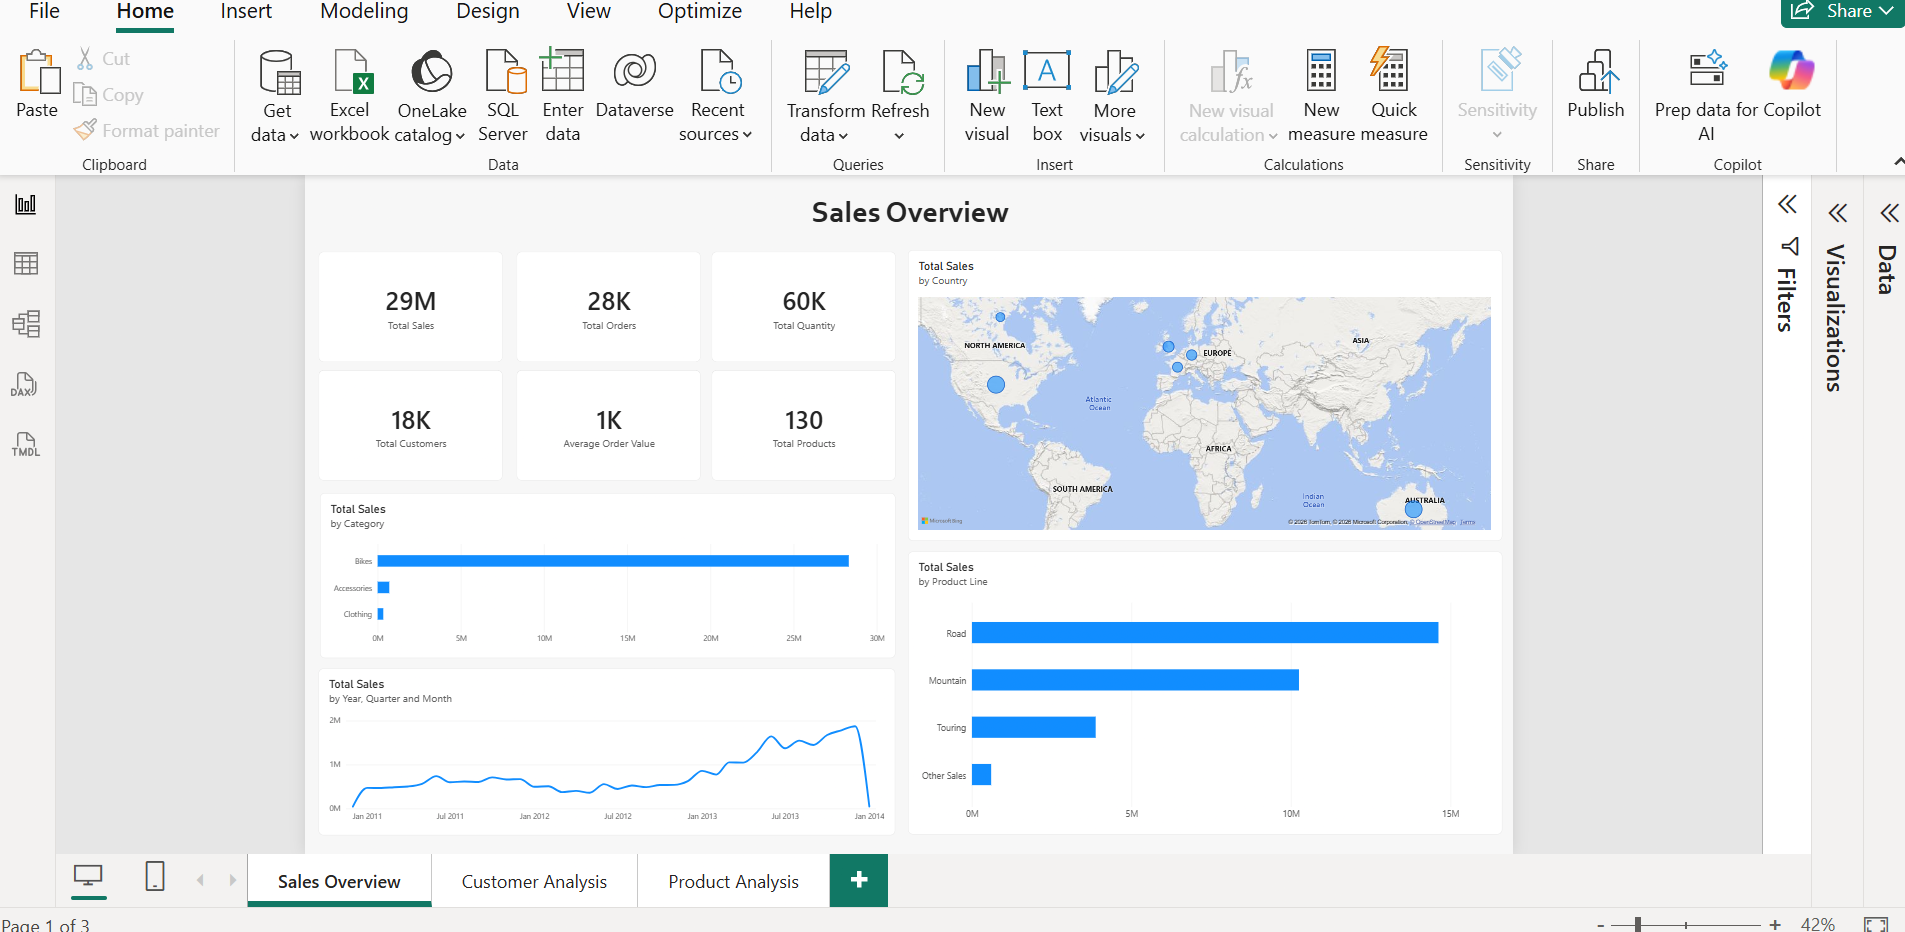

This screenshot's page, from the dashboard's own definition file:
{"tool":"powerbi","page":{"name":"Sales Overview","canvas":[1920,1080],"ordinal":0},"visuals":[{"type":"cardVisual","fields":{"Data":["fact_sales.total_sales"]},"box":[21.2,122,293.3,176.7],"z":0},{"type":"cardVisual","fields":{"Data":["fact_sales.total_orders"]},"box":[335.5,122,293.3,176.7],"z":1000},{"type":"cardVisual","fields":{"Data":["fact_sales.total_quantity"]},"box":[646.9,122,293.3,176.7],"z":2000},{"type":"cardVisual","fields":{"Data":["fact_sales.Total Customers"]},"box":[22.6,310.6,293.3,176.7],"z":3000},{"type":"cardVisual","fields":{"Data":["fact_sales.Average Order Value"]},"box":[335.8,310.6,293.3,176.7],"z":4000},{"type":"cardVisual","fields":{"Data":["fact_sales.Total Products"]},"box":[645.8,310.6,293.3,176.7],"z":5000},{"type":"lineChart","fields":{"Y":["fact_sales.Total Sales"],"Category":["fact_sales.order_date.Variation.Date Hierarchy.Year","fact_sales.order_date.Variation.Date Hierarchy.Quarter","fact_sales.order_date.Variation.Date Hierarchy.Month"]},"box":[22.5,785,917.5,265],"z":6000},{"type":"clusteredBarChart","fields":{"Category":["dim_products.category"],"Y":["fact_sales.Total Sales"]},"box":[25,505,915,262.5],"z":7000},{"type":"barChart","fields":{"Category":["dim_products.product_line"],"Y":["fact_sales.Total Sales"]},"box":[960,600,945,450],"z":8000},{"type":"map","fields":{"Category":["dim_customers.country"],"Size":["fact_sales.Total Sales"]},"box":[960,120,945,462.5],"z":9000},{"type":"textbox","box":[22.5,27.5,1882.5,65],"z":9001}]}

Visuals, with their boxes on the page's 1920x1080 design canvas (x1, y1, x2, y2). These are canvas units, not pixel positions in the 1905x932 screenshot, which may show the page scaled, cropped or inside an application window:
cardVisual - fact_sales.total_sales: 21:122:314:299
cardVisual - fact_sales.total_orders: 336:122:629:299
cardVisual - fact_sales.total_quantity: 647:122:940:299
cardVisual - fact_sales.Total Customers: 23:311:316:487
cardVisual - fact_sales.Average Order Value: 336:311:629:487
cardVisual - fact_sales.Total Products: 646:311:939:487
lineChart - fact_sales.Total Sales x fact_sales.order_date.Variation.Date Hierarchy.Year: 22:785:940:1050
clusteredBarChart - dim_products.category x fact_sales.Total Sales: 25:505:940:768
barChart - dim_products.product_line x fact_sales.Total Sales: 960:600:1905:1050
map - dim_customers.country x fact_sales.Total Sales: 960:120:1905:582
textbox: 22:28:1905:92
